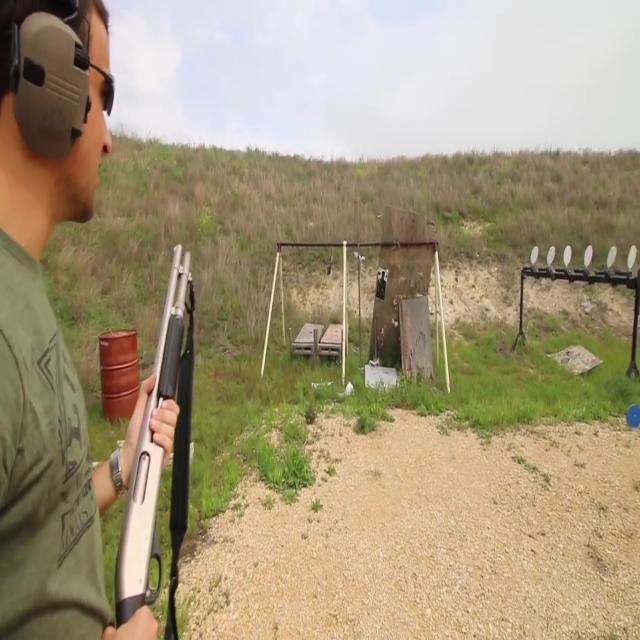Weapon: (102, 189, 225, 640)
